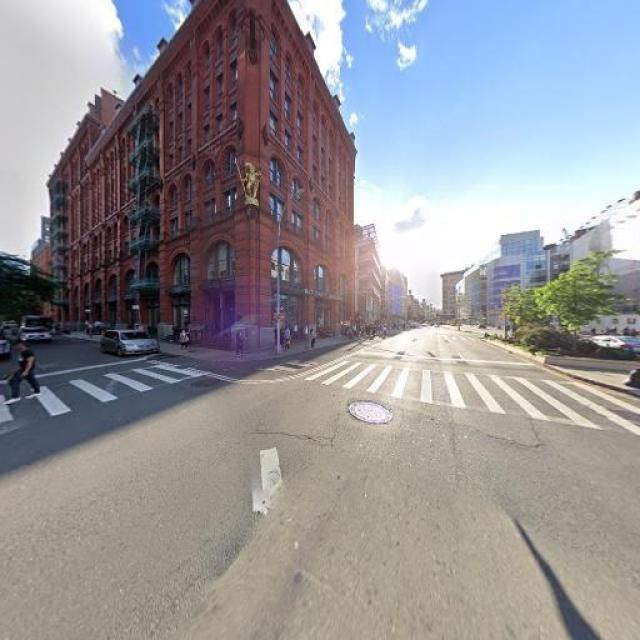Building: (72, 1, 354, 350)
